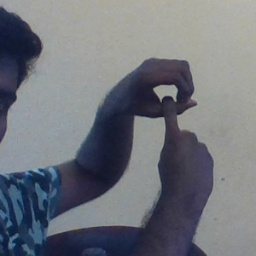Q: (115, 53, 219, 181)
